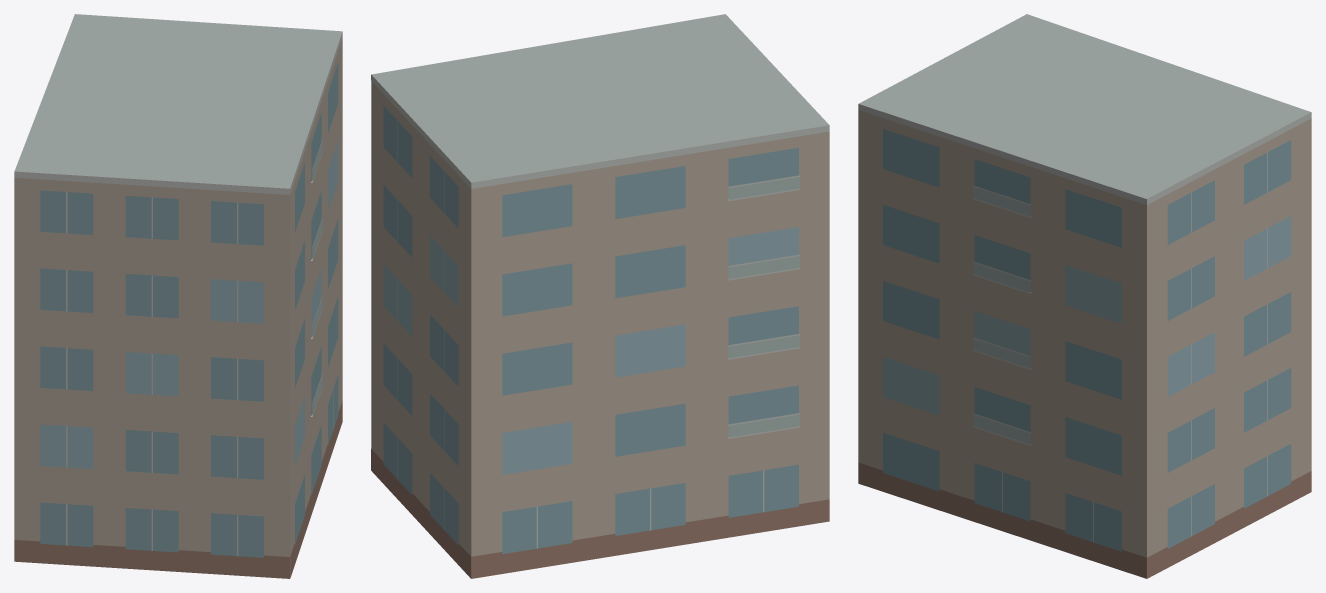
Rendered from survey-upis-32491891.glb.
3 renders of one model, left to right at view 1: azimuth 30°, elevation 25°; view 2: azimuth 150°, elevation 25°; view 3: azimuth 270°, elevation 25°, orthographic. The views are drawn at different scales.
Parts seen in each view (by area): view 1: survey-upis-32491891.tmp; view 2: survey-upis-32491891.tmp; view 3: survey-upis-32491891.tmp.
Part boxes in pixels (x1,y1,x2,y2): survey-upis-32491891.tmp: [14, 14, 342, 578]; survey-upis-32491891.tmp: [371, 14, 829, 578]; survey-upis-32491891.tmp: [858, 14, 1311, 578].
Size of the model in its own units: 15.95 by 15.25 by 16.51.
